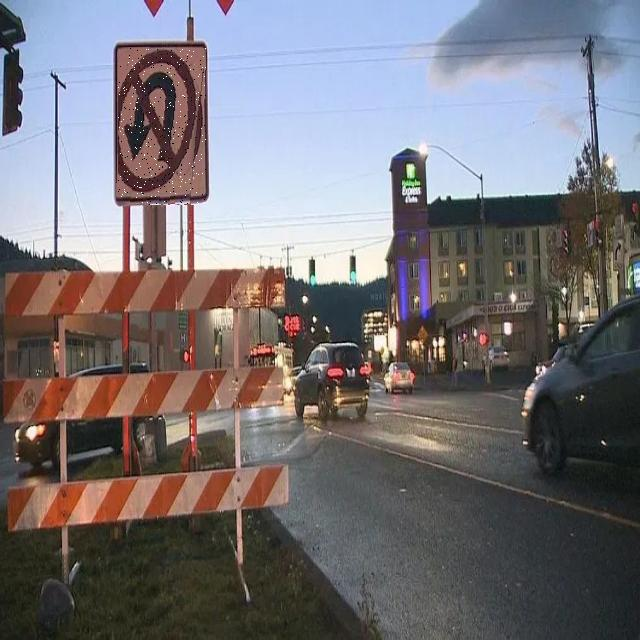no u turn: (118, 48, 206, 205)
